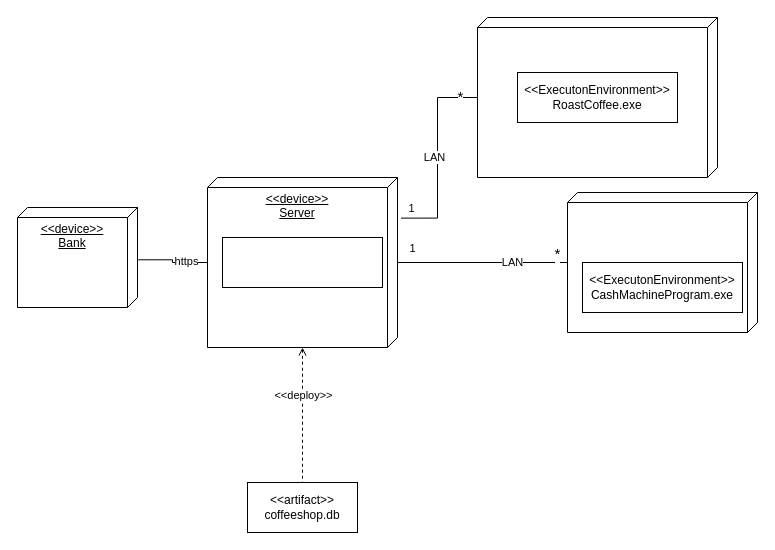
Some shapes in this 775 by 550 pixel diagram are drawn without their labels. Each missing label, with the box of its shape:
<<device>> Cash machine: (566, 192, 758, 332)
<<device>> Roaster: (476, 16, 718, 178)
<<ExecutonEnvironment>> BankingServices.exe DataBaseManager.exe: (222, 236, 382, 288)
